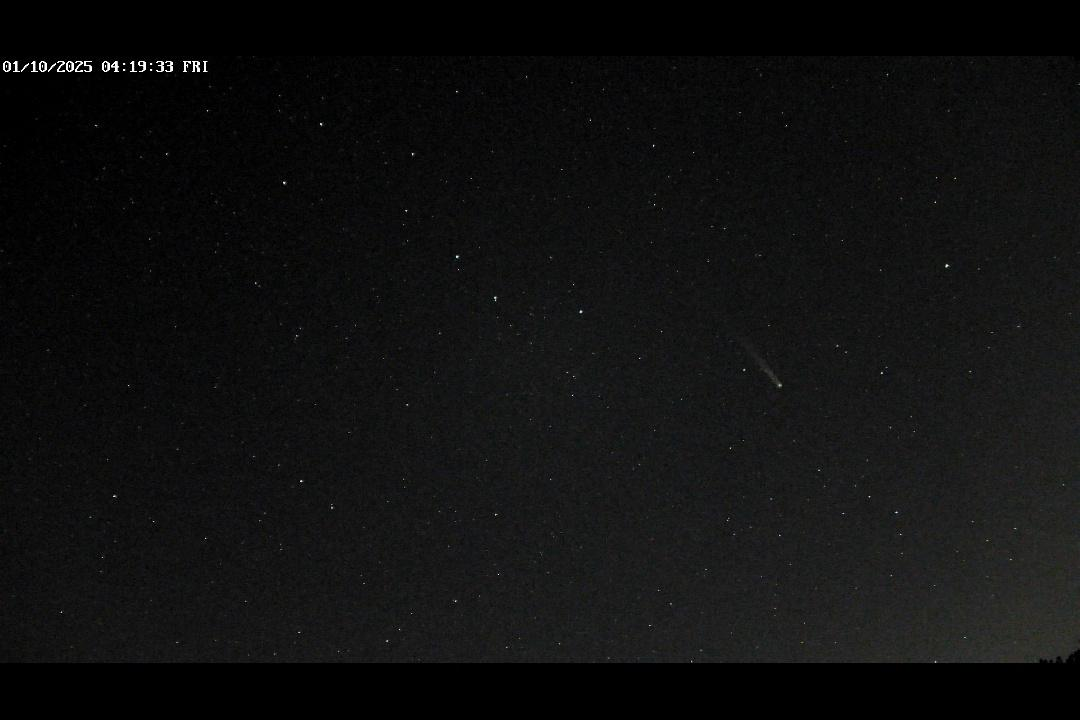Plane: (743, 351, 792, 393)
